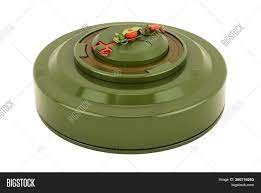car: (21, 18, 246, 159)
